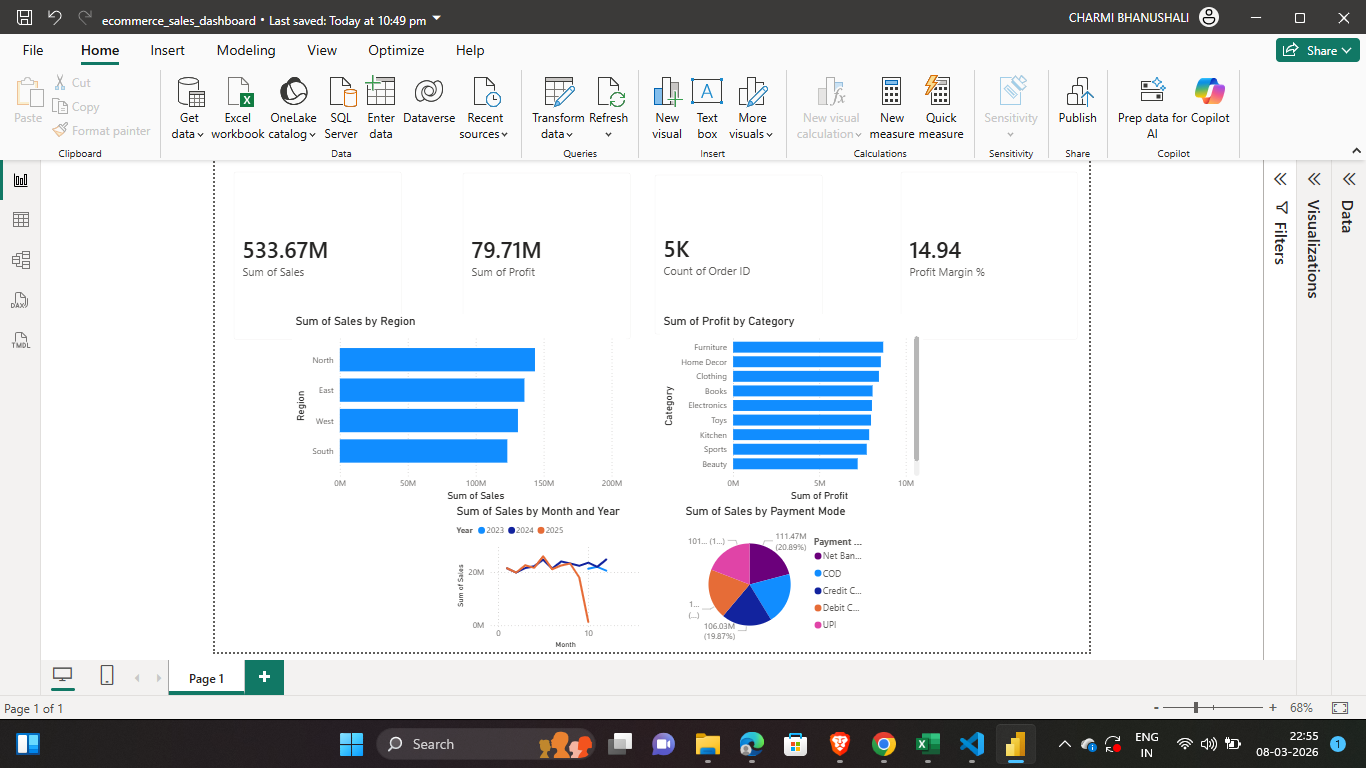

The page's visual inventory and layout, read from the dashboard file:
{"tool":"powerbi","page":{"name":"Page 1","canvas":[1280,720],"ordinal":0},"visuals":[{"type":"cardVisual","fields":{"Data":["Sum(cleaned_ecommerce_data.Sales)"]},"box":[10,0,280,280],"z":0},{"type":"cardVisual","fields":{"Data":["Sum(cleaned_ecommerce_data.Profit)"]},"box":[346,1.7,280.5,278.8],"z":1000},{"type":"cardVisual","fields":{"Data":["Count(cleaned_ecommerce_data.Order ID)"]},"box":[626.6,5,280.5,268.8],"z":2000},{"type":"cardVisual","fields":{"Data":["cleaned_ecommerce_data.Profit Margin %"]},"box":[986,0,294,280.5],"z":3000},{"type":"clusteredBarChart","fields":{"Category":["cleaned_ecommerce_data.Region"],"Y":["Sum(cleaned_ecommerce_data.Sales)"]},"box":[112.5,225.1,488.8,278.8],"z":4000},{"type":"clusteredBarChart","fields":{"Category":["cleaned_ecommerce_data.Category"],"Y":["Sum(cleaned_ecommerce_data.Profit)"]},"box":[651.8,225.1,384.7,278.8],"z":5000},{"type":"lineChart","fields":{"Category":["cleaned_ecommerce_data.Month"],"Series":["cleaned_ecommerce_data.Year"],"Y":["Sum(cleaned_ecommerce_data.Sales)"]},"box":[347.7,503.9,278.8,216.7],"z":5001},{"type":"pieChart","fields":{"Category":["cleaned_ecommerce_data.Payment Mode"],"Y":["Sum(cleaned_ecommerce_data.Sales)"]},"box":[683.7,503.9,278.8,216.7],"z":5002}]}

Visuals, with their boxes on the page's 1280x720 design canvas (x1, y1, x2, y2). These are canvas units, not pixel positions in the 1366x768 screenshot, which may show the page scaled, cropped or inside an application window:
cardVisual - Sum(cleaned_ecommerce_data.Sales): bbox=[10, 0, 290, 280]
cardVisual - Sum(cleaned_ecommerce_data.Profit): bbox=[346, 2, 626, 280]
cardVisual - Count(cleaned_ecommerce_data.Order ID): bbox=[627, 5, 907, 274]
cardVisual - cleaned_ecommerce_data.Profit Margin %: bbox=[986, 0, 1280, 280]
clusteredBarChart - cleaned_ecommerce_data.Region x Sum(cleaned_ecommerce_data.Sales): bbox=[112, 225, 601, 504]
clusteredBarChart - cleaned_ecommerce_data.Category x Sum(cleaned_ecommerce_data.Profit): bbox=[652, 225, 1036, 504]
lineChart - cleaned_ecommerce_data.Month x cleaned_ecommerce_data.Year: bbox=[348, 504, 626, 721]
pieChart - cleaned_ecommerce_data.Payment Mode x Sum(cleaned_ecommerce_data.Sales): bbox=[684, 504, 962, 721]
